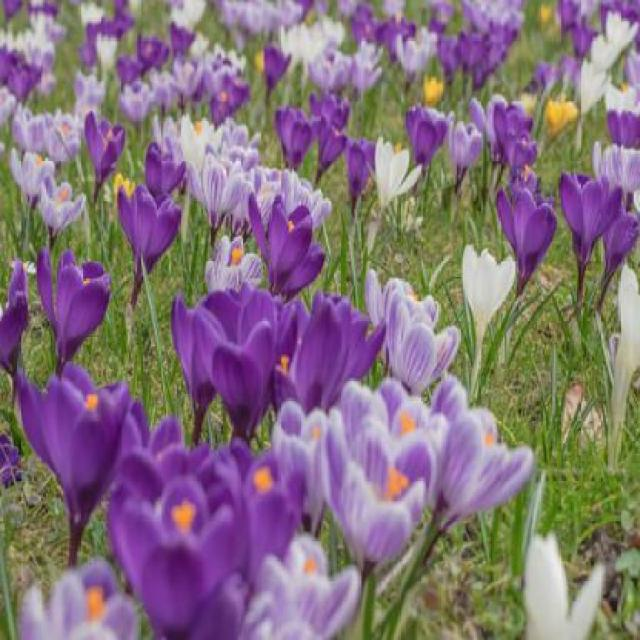Flower: (323, 412, 431, 578), (437, 404, 546, 550), (20, 365, 112, 537), (197, 273, 280, 425), (29, 245, 109, 357), (252, 193, 326, 299), (386, 300, 459, 397), (452, 236, 513, 352), (112, 184, 190, 273), (496, 183, 553, 283), (562, 166, 616, 266), (190, 140, 242, 229), (80, 105, 128, 183), (34, 173, 84, 244), (141, 132, 187, 200), (408, 100, 446, 172), (276, 96, 312, 170), (348, 127, 380, 204), (449, 114, 480, 184), (11, 153, 57, 198), (316, 117, 346, 178), (263, 39, 295, 93)
